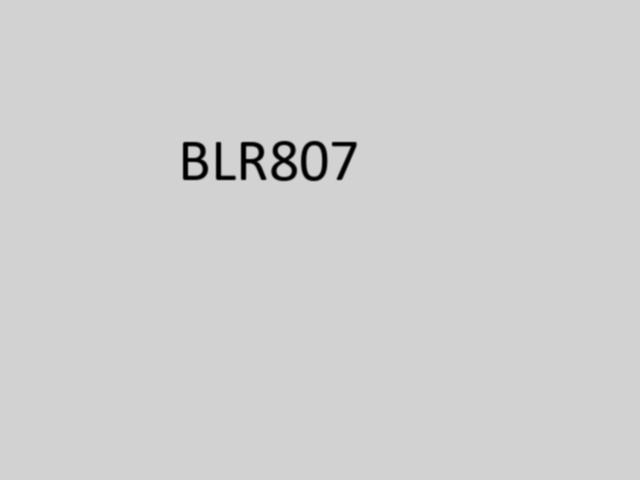OCR_AREA: (174, 137, 363, 185)
